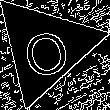O_N: (18, 18, 73, 77)
